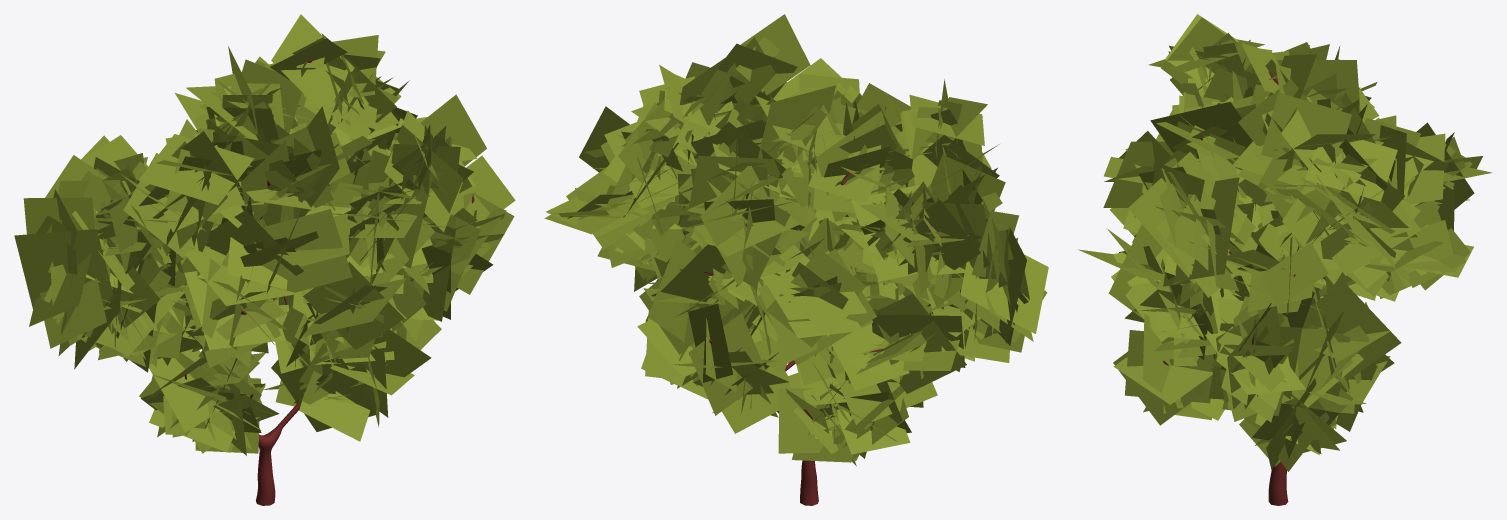
File: Tree.fbx
The picture shows the model from 3 angles, left to right: view 1: azimuth 30°, elevation 25°; view 2: azimuth 150°, elevation 25°; view 3: azimuth 270°, elevation 25°; orthographic projection. The views are drawn at different scales.
Parts seen in each view (by area): view 1: Plane.005|Plane.001|Dupli|552, Plane.005|Plane.003|Dupli|978, Plane.005|Plane.001|Dupli|344, Plane.005|Plane.002|Dupli|493, Plane.005|Plane.002|Dupli|421, Plane.005|Plane.002|Dupli|73, Plane.005|Plane.001|Dupli|976, Plane.005|Plane.003|Dupli|542, Plane.005|Plane.001|Dupli|600, Plane.005|Plane.004|Dupli|939, Plane.005|Plane.002|Dupli|985, Plane.005|Plane.001|Dupli|988 (+65 smaller); view 2: Plane.005|Plane.004|Dupli|555, Plane.005|Plane.001|Dupli|972, Plane.005|Plane.004|Dupli|95, Plane.005|Plane.001|Dupli|900, Plane.005|Plane.002|Dupli|817, Plane.005|Plane.001|Dupli|444, Plane.005|Plane.004|Dupli|811, Plane.005|Plane.003|Dupli|82, Plane.005|Plane.002|Dupli|173, Plane.005|Plane.001|Dupli|180, Plane.005|Plane.003|Dupli|98, Plane.005|Plane.002|Dupli|465 (+79 smaller); view 3: Plane.005|Plane.003|Dupli|82, Plane.005|Plane.004|Dupli|395, Plane.005|Plane.002|Dupli|617, Plane.005|Plane.004|Dupli|587, Plane.005|Plane.001|Dupli|308, Plane.005|Plane.002|Dupli|393, Plane.005|Plane.002|Dupli|613, Plane.005|Plane.003|Dupli|978, Plane.005|Plane.001|Dupli|404, Plane.005|Plane.004|Dupli|259, Plane.005|Plane.001|Dupli|360, Plane.005|Plane.004|Dupli|971 (+76 smaller).
Part boxes in pixels (left/top/right/bottom): Plane.005|Plane.001|Dupli|552: left=14, top=229, right=118, bottom=314; Plane.005|Plane.003|Dupli|978: left=254, top=209, right=352, bottom=298; Plane.005|Plane.001|Dupli|344: left=138, top=134, right=254, bottom=204; Plane.005|Plane.002|Dupli|493: left=303, top=262, right=404, bottom=349; Plane.005|Plane.002|Dupli|421: left=271, top=14, right=354, bottom=114; Plane.005|Plane.002|Dupli|73: left=149, top=349, right=220, bottom=432; Plane.005|Plane.001|Dupli|976: left=185, top=248, right=300, bottom=305; Plane.005|Plane.003|Dupli|542: left=44, top=278, right=106, bottom=348; Plane.005|Plane.001|Dupli|600: left=389, top=94, right=486, bottom=165; Plane.005|Plane.004|Dupli|939: left=451, top=155, right=515, bottom=228; Plane.005|Plane.002|Dupli|985: left=205, top=210, right=303, bottom=275; Plane.005|Plane.001|Dupli|988: left=184, top=271, right=285, bottom=349; Plane.005|Plane.004|Dupli|555: left=960, top=254, right=1048, bottom=333; Plane.005|Plane.001|Dupli|972: left=700, top=166, right=788, bottom=285; Plane.005|Plane.004|Dupli|95: left=688, top=313, right=766, bottom=415; Plane.005|Plane.001|Dupli|900: left=758, top=85, right=835, bottom=158; Plane.005|Plane.002|Dupli|817: left=874, top=293, right=966, bottom=393; Plane.005|Plane.001|Dupli|444: left=687, top=155, right=782, bottom=215; Plane.005|Plane.004|Dupli|811: left=832, top=323, right=909, bottom=390; Plane.005|Plane.003|Dupli|82: left=648, top=240, right=695, bottom=348; Plane.005|Plane.002|Dupli|173: left=660, top=244, right=725, bottom=302; Plane.005|Plane.001|Dupli|180: left=778, top=388, right=832, bottom=453; Plane.005|Plane.003|Dupli|98: left=688, top=303, right=733, bottom=382; Plane.005|Plane.002|Dupli|465: left=741, top=14, right=810, bottom=95; Plane.005|Plane.003|Dupli|82: left=1302, top=284, right=1401, bottom=384; Plane.005|Plane.004|Dupli|395: left=1261, top=92, right=1351, bottom=166; Plane.005|Plane.002|Dupli|617: left=1128, top=152, right=1255, bottom=283; Plane.005|Plane.004|Dupli|587: left=1260, top=242, right=1328, bottom=307; Plane.005|Plane.001|Dupli|308: left=1150, top=101, right=1252, bottom=161; Plane.005|Plane.002|Dupli|393: left=1305, top=140, right=1397, bottom=201; Plane.005|Plane.002|Dupli|613: left=1174, top=177, right=1239, bottom=282; Plane.005|Plane.003|Dupli|978: left=1103, top=141, right=1172, bottom=207; Plane.005|Plane.001|Dupli|404: left=1332, top=203, right=1421, bottom=275; Plane.005|Plane.004|Dupli|259: left=1113, top=357, right=1212, bottom=404; Plane.005|Plane.001|Dupli|360: left=1161, top=17, right=1250, bottom=84; Plane.005|Plane.004|Dupli|971: left=1403, top=133, right=1445, bottom=203.
Size of the model in its own units: 4717 by 4512 by 3535.
